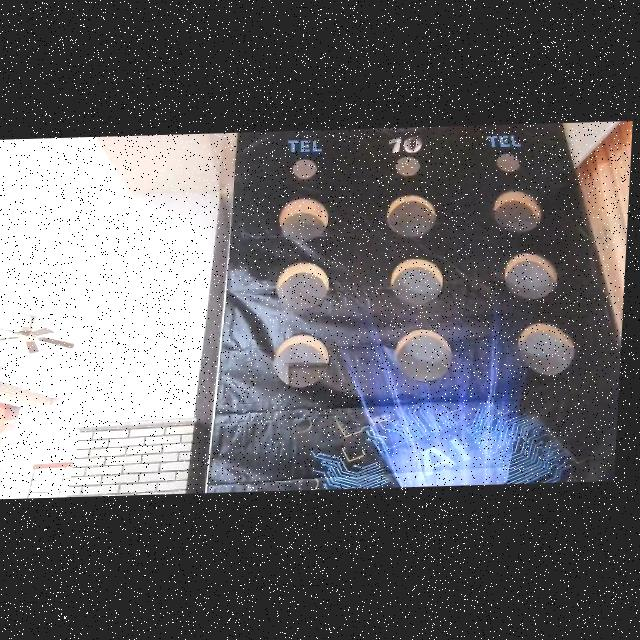hole: (516, 322, 577, 377), (271, 333, 330, 389), (395, 328, 454, 382), (503, 252, 559, 301), (275, 262, 331, 310), (391, 257, 444, 304), (278, 197, 330, 242), (386, 194, 437, 237), (493, 190, 542, 233), (292, 159, 317, 180), (395, 157, 420, 177), (496, 153, 521, 172)
